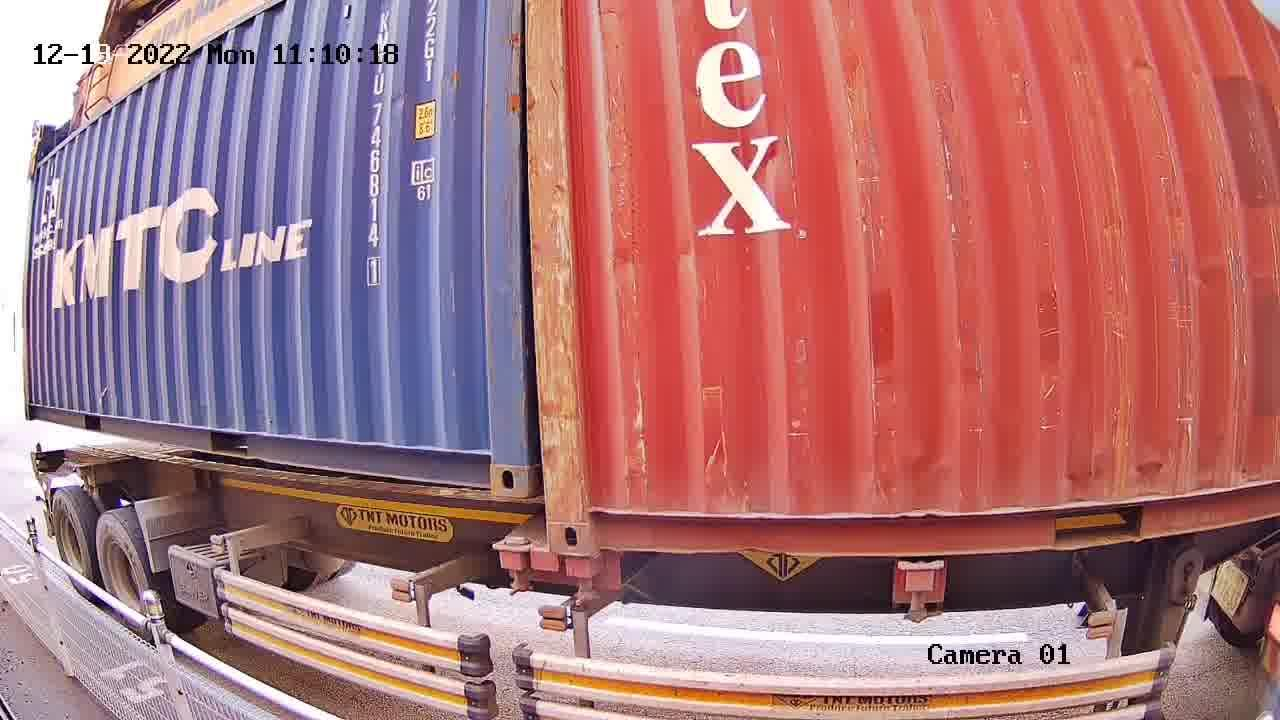Cone: (556, 554, 602, 603), (497, 536, 532, 594)
Hole_L: (548, 478, 630, 552)
Hole_R: (451, 430, 525, 495)
Tire: (97, 517, 149, 613), (52, 492, 97, 578)
